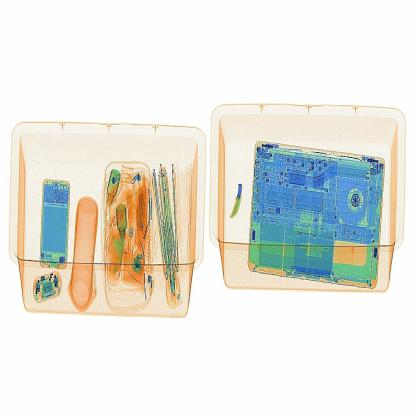wrench: (229, 181, 246, 225)
